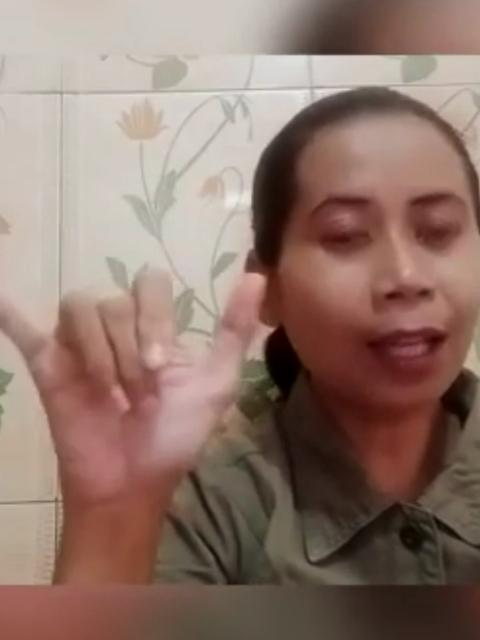Y: (0, 253, 276, 515)
